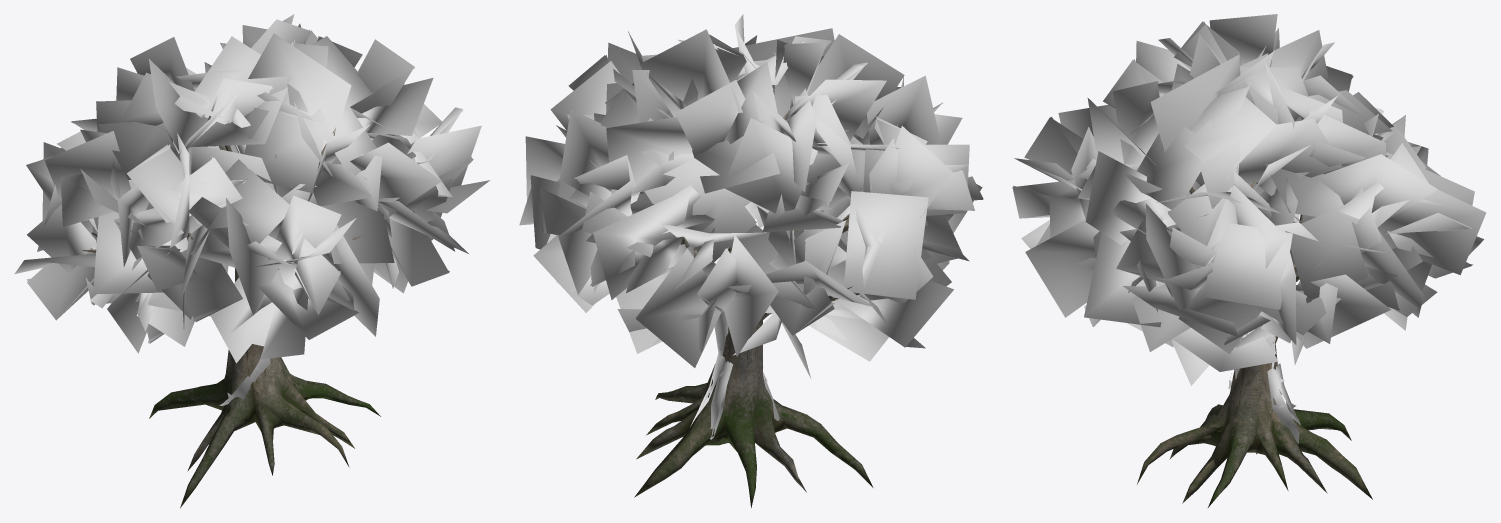
Rendered from plants_me_tree_beech01_cv00.gltf.
The picture shows the model from 3 angles, left to right: view 1: azimuth 30°, elevation 25°; view 2: azimuth 150°, elevation 25°; view 3: azimuth 270°, elevation 25°; orthographic projection. The views are drawn at different scales.
Visible parts, largest first — view 1: um_plants_me_tree_beech01_cv00_model_lod0Shape:plants_beech0, um_plants_me_tree_beech01_cv00_model_lod1Shape:plants_beech0, um_plants_me_tree_beech01_cv00_model_lod0Shape:plants_me_tre, um_plants_me_tree_beech01_cv00_model_lod1Shape:plants_me_tre; view 2: um_plants_me_tree_beech01_cv00_model_lod0Shape:plants_beech0, um_plants_me_tree_beech01_cv00_model_lod1Shape:plants_beech0, um_plants_me_tree_beech01_cv00_model_lod0Shape:plants_me_tre, um_plants_me_tree_beech01_cv00_model_lod1Shape:plants_me_tre, um_plants_me_tree_beech01_cv00_model_lod0Shape:plants_ivy01_, um_plants_me_tree_beech01_cv00_model_lod1Shape:plants_ivy01_; view 3: um_plants_me_tree_beech01_cv00_model_lod0Shape:plants_beech0, um_plants_me_tree_beech01_cv00_model_lod1Shape:plants_beech0, um_plants_me_tree_beech01_cv00_model_lod0Shape:plants_me_tre, um_plants_me_tree_beech01_cv00_model_lod1Shape:plants_me_tre, um_plants_me_tree_beech01_cv00_model_lod0Shape:plants_ivy01_, um_plants_me_tree_beech01_cv00_model_lod1Shape:plants_ivy01_.
Boxes of the visible parts, x1=… form: um_plants_me_tree_beech01_cv00_model_lod0Shape:plants_beech0: x1=14, y1=14, x2=490, y2=363; um_plants_me_tree_beech01_cv00_model_lod1Shape:plants_beech0: x1=26, y1=25, x2=473, y2=358; um_plants_me_tree_beech01_cv00_model_lod0Shape:plants_me_tre: x1=81, y1=129, x2=380, y2=508; um_plants_me_tree_beech01_cv00_model_lod1Shape:plants_me_tre: x1=83, y1=128, x2=366, y2=501; um_plants_me_tree_beech01_cv00_model_lod0Shape:plants_beech0: x1=519, y1=14, x2=983, y2=378; um_plants_me_tree_beech01_cv00_model_lod1Shape:plants_beech0: x1=540, y1=33, x2=982, y2=365; um_plants_me_tree_beech01_cv00_model_lod0Shape:plants_me_tre: x1=634, y1=111, x2=873, y2=507; um_plants_me_tree_beech01_cv00_model_lod1Shape:plants_me_tre: x1=637, y1=111, x2=871, y2=499; um_plants_me_tree_beech01_cv00_model_lod0Shape:plants_ivy01_: x1=690, y1=320, x2=779, y2=439; um_plants_me_tree_beech01_cv00_model_lod1Shape:plants_ivy01_: x1=692, y1=311, x2=776, y2=439; um_plants_me_tree_beech01_cv00_model_lod0Shape:plants_beech0: x1=1012, y1=14, x2=1486, y2=385; um_plants_me_tree_beech01_cv00_model_lod1Shape:plants_beech0: x1=1013, y1=21, x2=1473, y2=383; um_plants_me_tree_beech01_cv00_model_lod0Shape:plants_me_tre: x1=1137, y1=143, x2=1372, y2=507; um_plants_me_tree_beech01_cv00_model_lod1Shape:plants_me_tre: x1=1143, y1=180, x2=1366, y2=501; um_plants_me_tree_beech01_cv00_model_lod0Shape:plants_ivy01_: x1=1228, y1=334, x2=1300, y2=443; um_plants_me_tree_beech01_cv00_model_lod1Shape:plants_ivy01_: x1=1229, y1=336, x2=1298, y2=431.
Size of what is drawn, in the model's own units: 18.7 by 19.12 by 18.3.
Materials: 4 (1 with a texture image).
